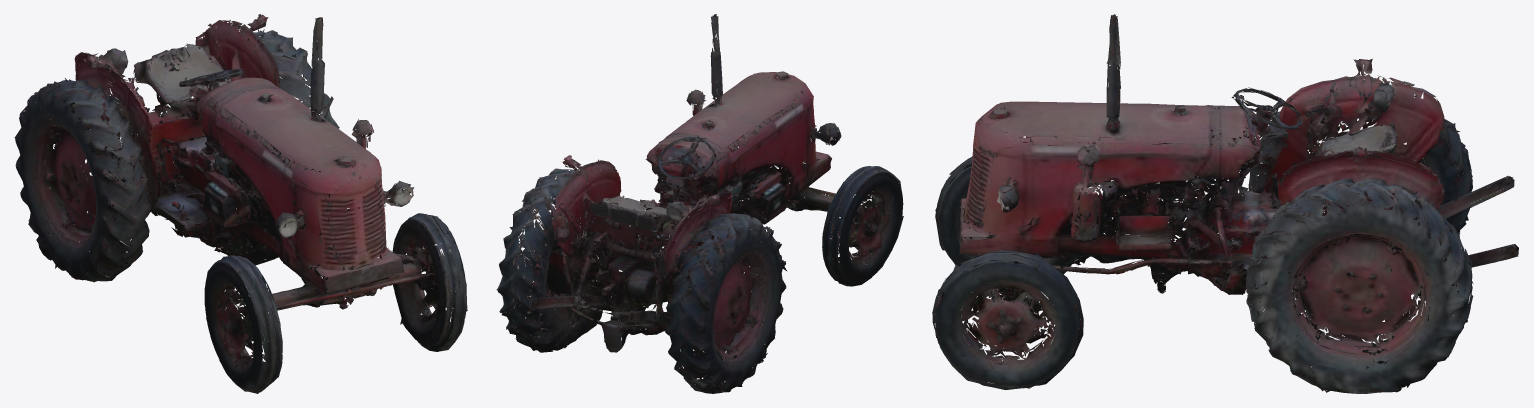
Rendered from trattore.glb.
3 renders of one model, left to right at view 1: azimuth 30°, elevation 25°; view 2: azimuth 150°, elevation 25°; view 3: azimuth 270°, elevation 25°, orthographic. The views are drawn at different scales.
Visible parts, largest first — view 1: tractor_body, wheel_t0, wheel_t1, wheel_t3; view 2: tractor_body, wheel_t0, wheel_t1, wheel_t2; view 3: tractor_body, wheel_t2, wheel_t3, wheel_t1, wheel_t0.
Boxes of the visible parts, x1=… form: tractor_body: x1=14, y1=14, x2=467, y2=393; wheel_t0: x1=15, y1=91, x2=162, y2=275; wheel_t1: x1=204, y1=260, x2=304, y2=389; wheel_t3: x1=344, y1=215, x2=466, y2=348; tractor_body: x1=496, y1=14, x2=903, y2=393; wheel_t0: x1=657, y1=225, x2=786, y2=392; wheel_t1: x1=807, y1=166, x2=903, y2=284; wheel_t2: x1=497, y1=174, x2=611, y2=335; tractor_body: x1=932, y1=14, x2=1518, y2=393; wheel_t2: x1=1252, y1=199, x2=1467, y2=391; wheel_t3: x1=935, y1=254, x2=1079, y2=385; wheel_t1: x1=938, y1=164, x2=1079, y2=283; wheel_t0: x1=1257, y1=97, x2=1462, y2=253.
Size of the model in its own units: 1.52 by 1.87 by 2.93.
1 material, 1 textured.
